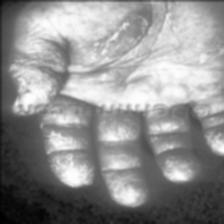Non-Cancerous Skin Condition: (96, 13, 152, 57), (18, 42, 60, 100), (108, 161, 144, 202), (162, 152, 196, 178)
